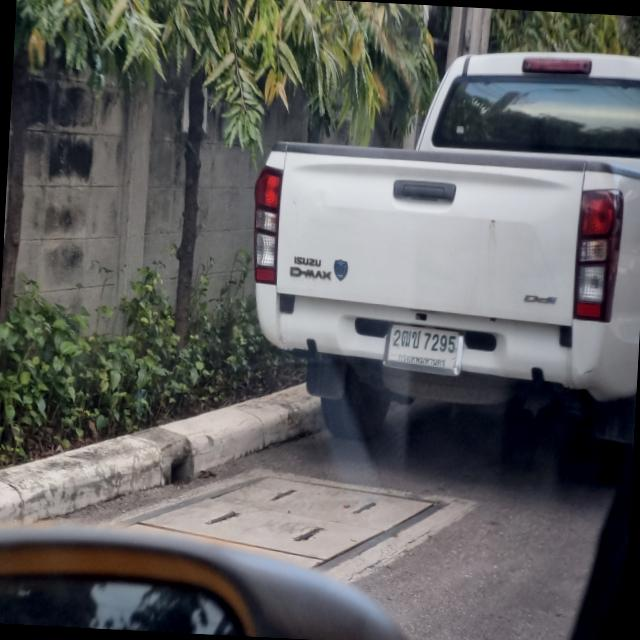license_plate: (386, 315, 468, 378)
